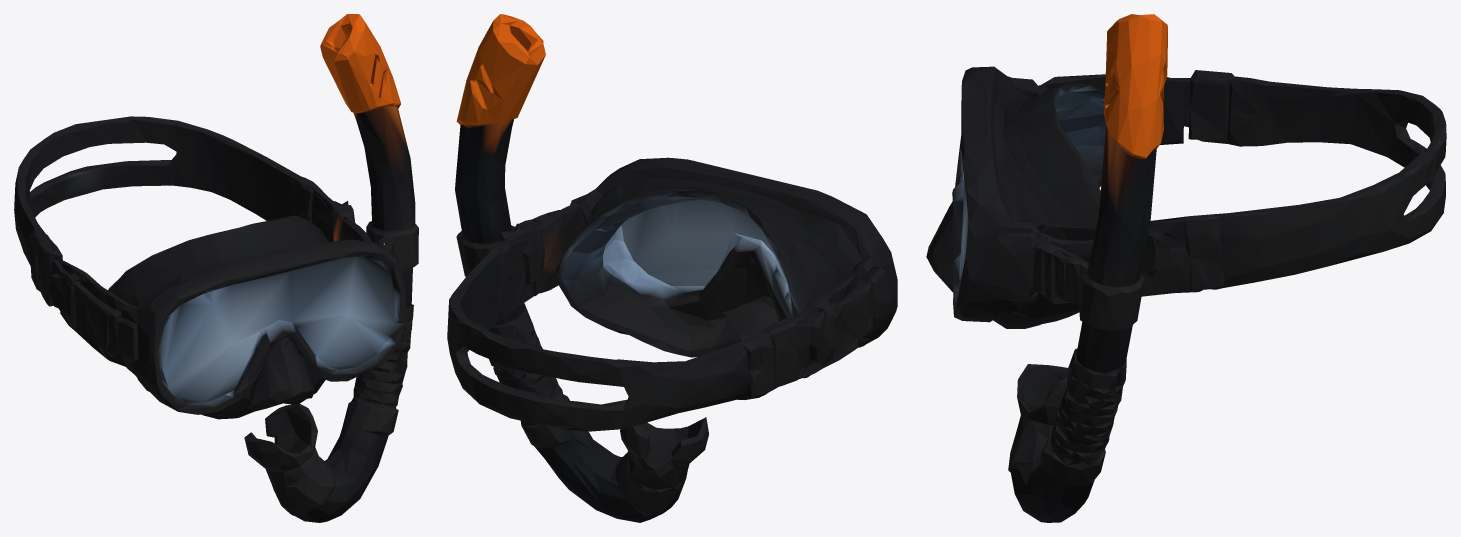
The model's file is scuba_mask.glb.
3 views of the same model, side by side, from view 1: azimuth 30°, elevation 25°; view 2: azimuth 150°, elevation 25°; view 3: azimuth 270°, elevation 25° (orthographic). The views are drawn at different scales.
Size of the model in its own units: 1.49 by 1.91 by 1.65.
